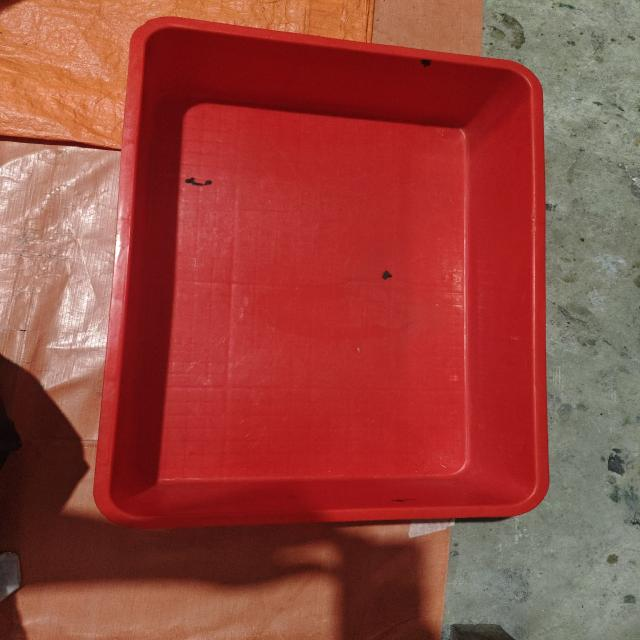red plastic box: (93, 16, 550, 528)
